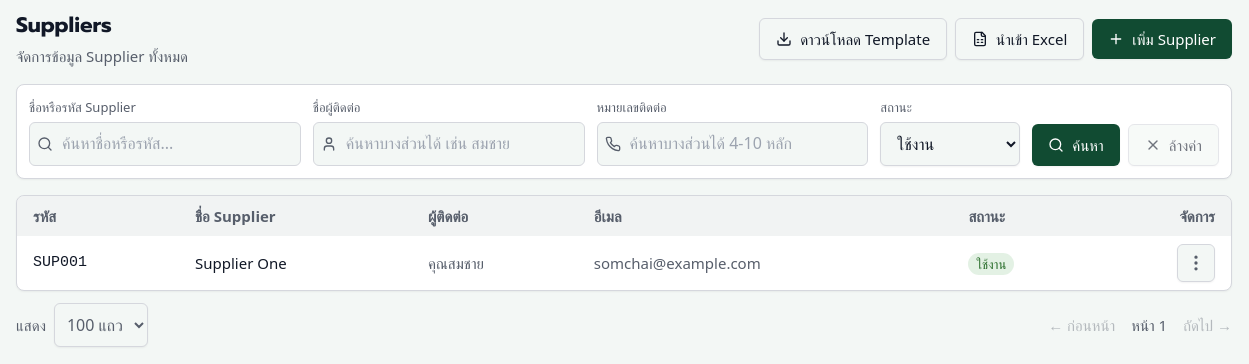
Test case: Suppliers — contact and status filters (round 8-20D) › actually shows an inactive supplier when asked for one
The width and height of the screenshot is (1249, 364).
Expected: the text "SUP001" is shown, [17, 236, 179, 290]
Select "ปิดใช้งาน" in the dropdown labelled "สถานะ" at x=950, y=144, box [880, 122, 1020, 166]
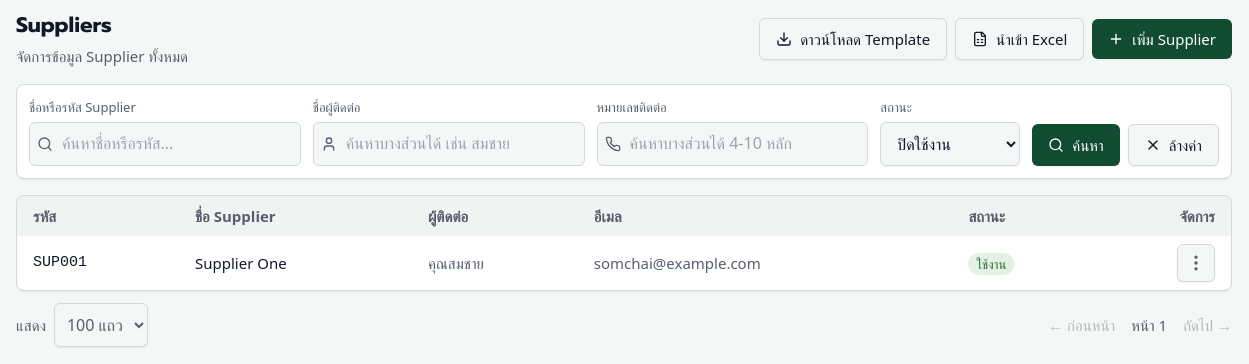
Click the button "ค้นหา" at x=1076, y=145, box [1032, 124, 1120, 166]
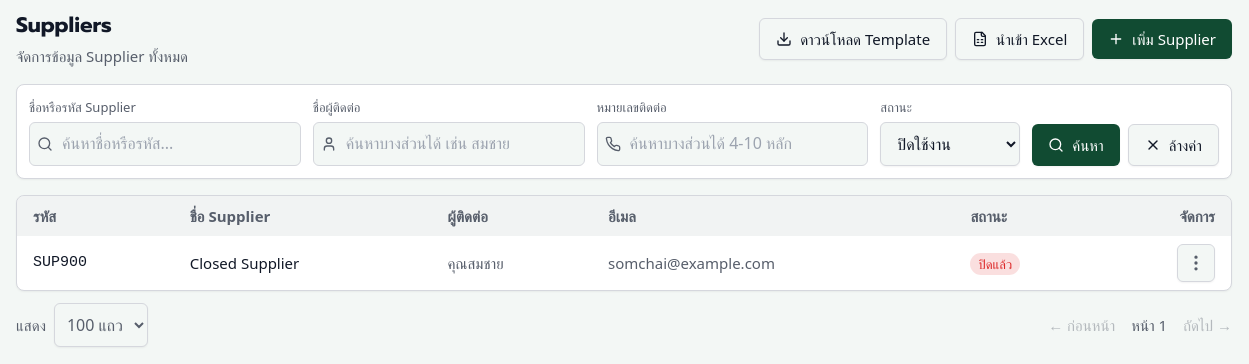
Result: the text "SUP900" is shown at [17, 236, 174, 290]
